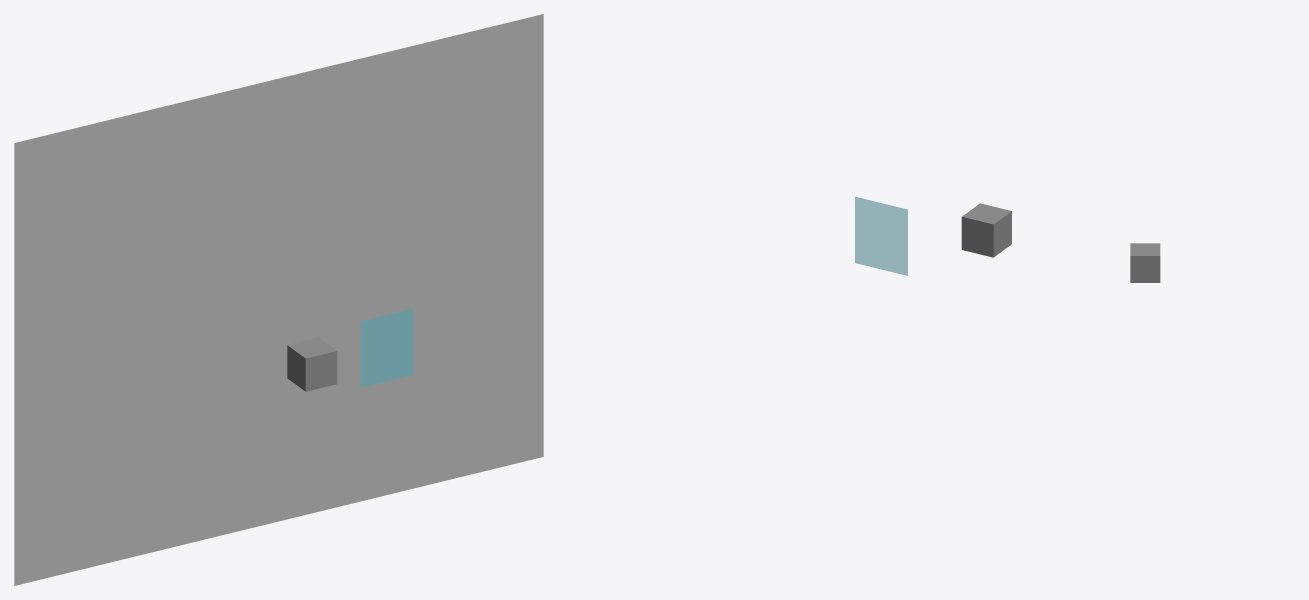
The model's file is catcher_transparency_fixture.gltf.
3 renders of one model, left to right at view 1: azimuth 30°, elevation 25°; view 2: azimuth 150°, elevation 25°; view 3: azimuth 270°, elevation 25°, orthographic. The views are drawn at different scales.
Parts seen in each view (by area): view 1: catcher_backdrop, catcher_panel, catcher_caster; view 2: catcher_panel, catcher_caster; view 3: catcher_caster.
Boxes of the visible parts, x1,y1,x2,y2 form: catcher_backdrop: (14, 14, 543, 585); catcher_panel: (360, 308, 413, 387); catcher_caster: (287, 337, 337, 391); catcher_panel: (855, 197, 907, 275); catcher_caster: (961, 203, 1011, 257); catcher_caster: (1130, 243, 1160, 282).
Bounding box in the file's own units: 20 × 16 × 6.6.
